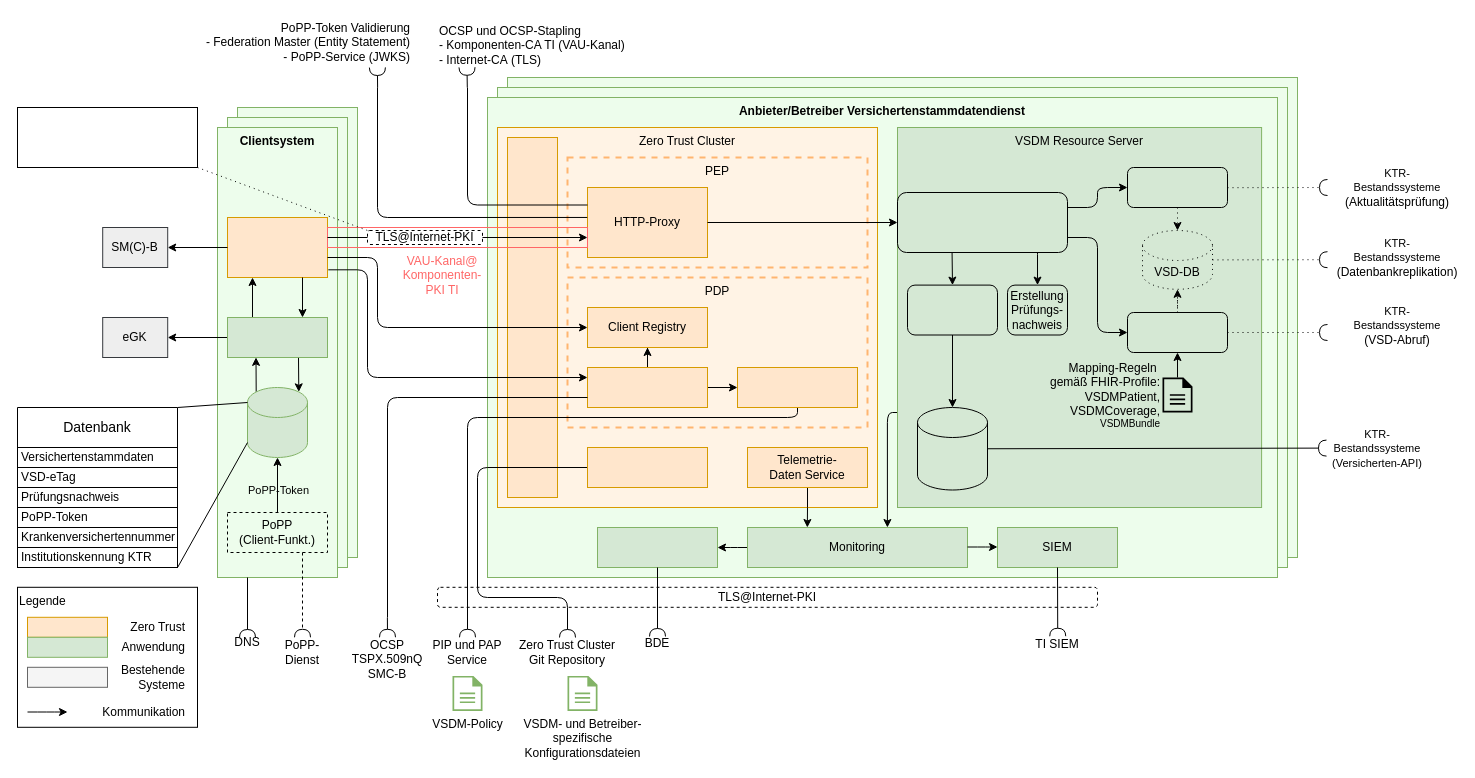
Image size: 1475x778. Some labels were removed from this diagram. The centre of each missing label's shape, as x and y in pixels:
Authorization Server: the point at 647,387
BDE Lieferung: the point at 657,547
Cluster Management Service: the point at 647,467
DB: the point at 277,422
FHIR-Fassade: the point at 1177,332
Ingress und Egress: the point at 532,317
Optionen : TLS kann am Ingress & Egress ODER HTTP-Proxy terminieren.: the point at 107,137
Policy Engine: the point at 797,387
Trust Client (ZT Client-Funkt): the point at 277,247
VSD-Aktualitätsprüfung: the point at 1177,187
VSDM (Client-Funkt.): the point at 277,337
VSDService -API: the point at 982,222
Zugriffs-protokoll: the point at 952,448
Zugriffs-protokollierung: the point at 952,309
